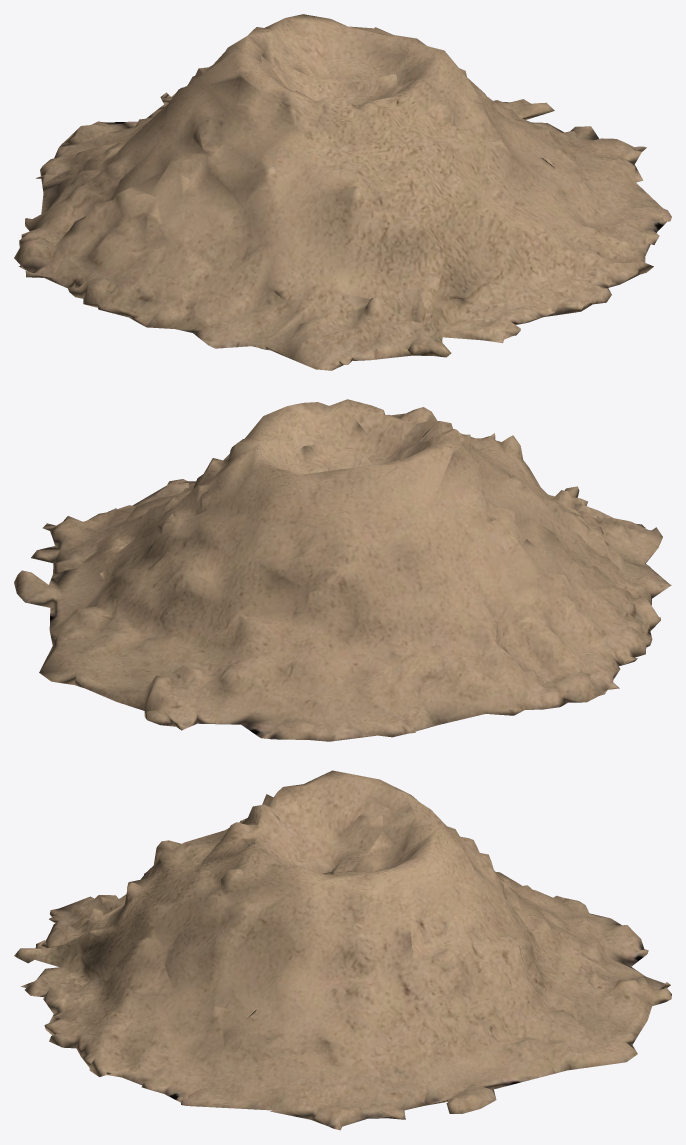
Rendered from 1_banco.glb.
3 views of the same model, one above another, from view 1: azimuth 30°, elevation 25°; view 2: azimuth 150°, elevation 25°; view 3: azimuth 270°, elevation 25° (orthographic). The views are drawn at different scales.
Parts seen in each view (by area): view 1: banco; view 2: banco; view 3: banco.
Boxes of the visible parts, left/top/right/bottom form: banco: left=14, top=14, right=671, bottom=370; banco: left=14, top=399, right=671, bottom=741; banco: left=14, top=770, right=671, bottom=1130.
Size of the model in its own units: 0.9123 by 0.2612 by 0.9055.
1 material, 1 textured.
